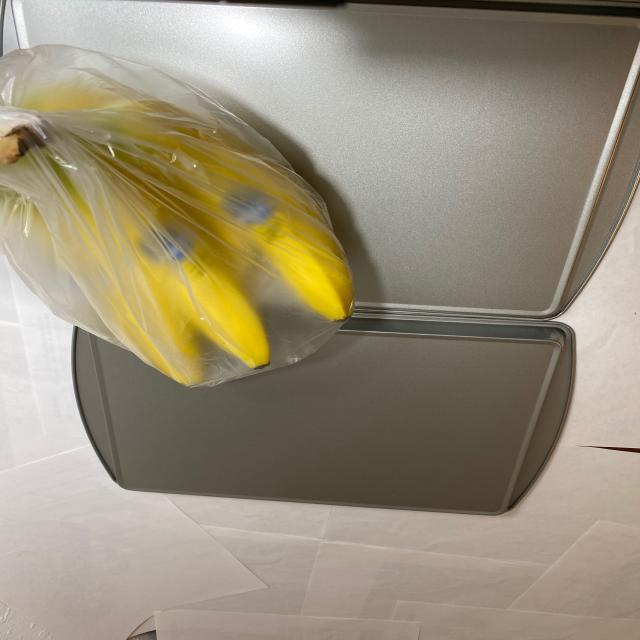banana: (2, 73, 362, 391)
